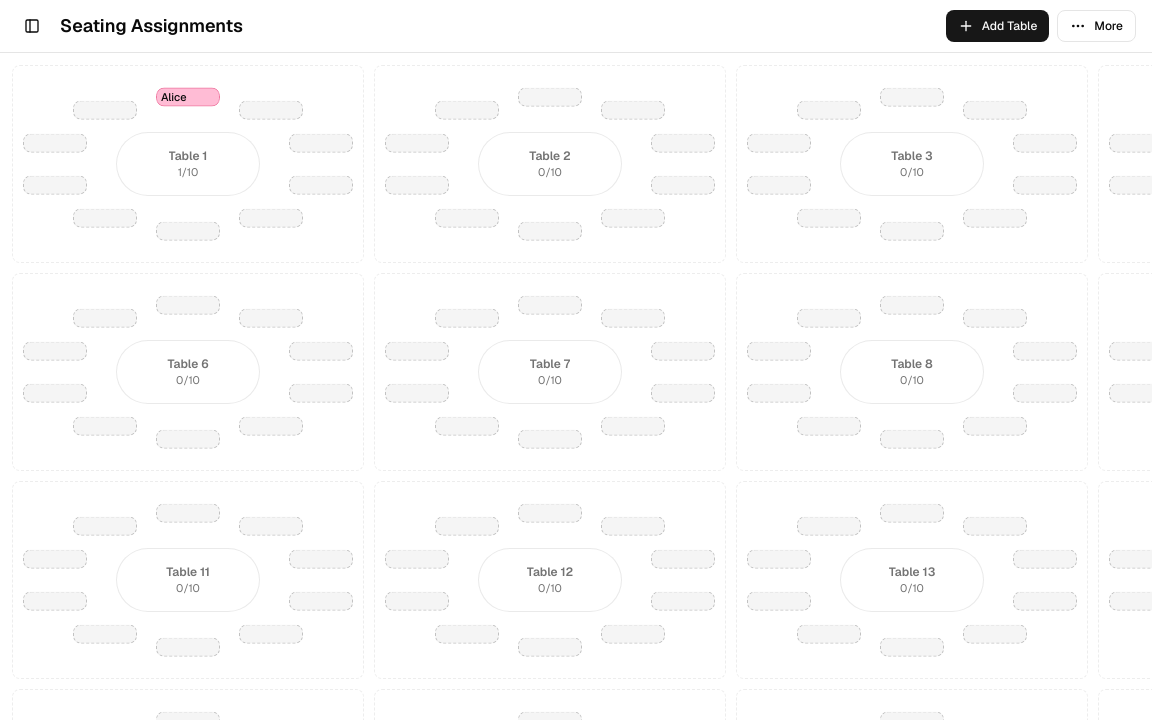
Scenario: guest hovercards › still opens hovercard on pointer hover with delay
The image size is (1152, 720).
# Pointer enter should trigger the delay
Hover over the element showing "Alice" at (188, 97), box [156,88,220,107]
Wait 1200 ms
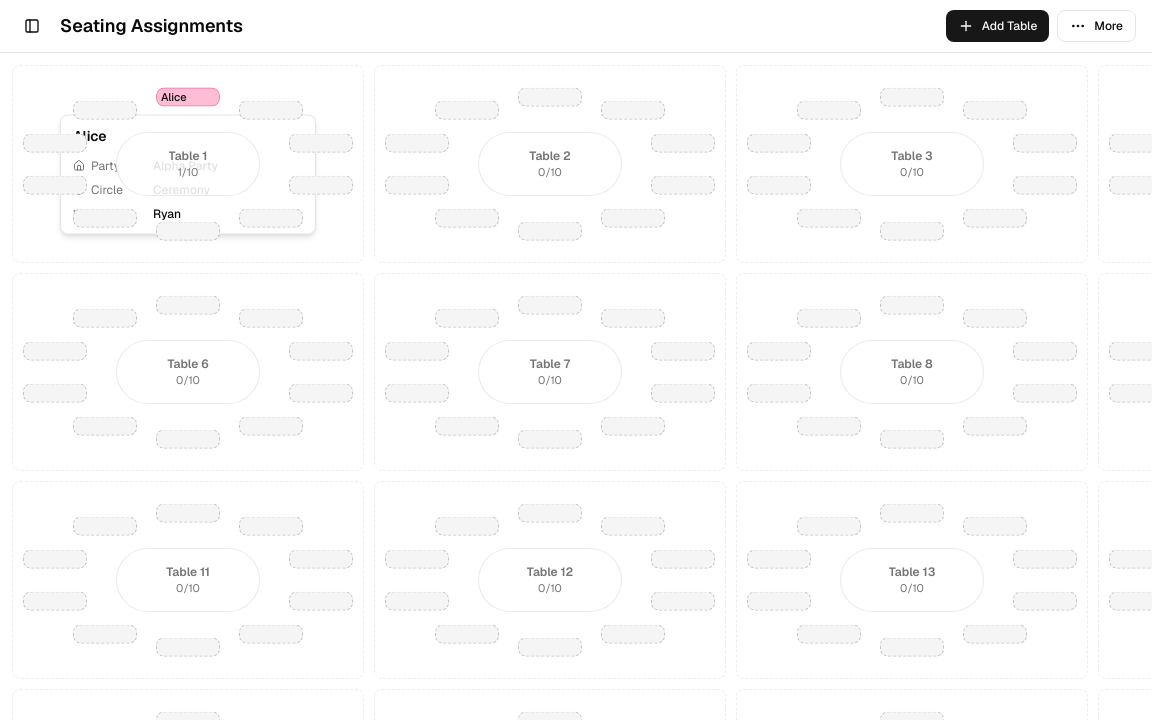
Now the text "Alpha Party" is shown, box [153,157,218,173]
